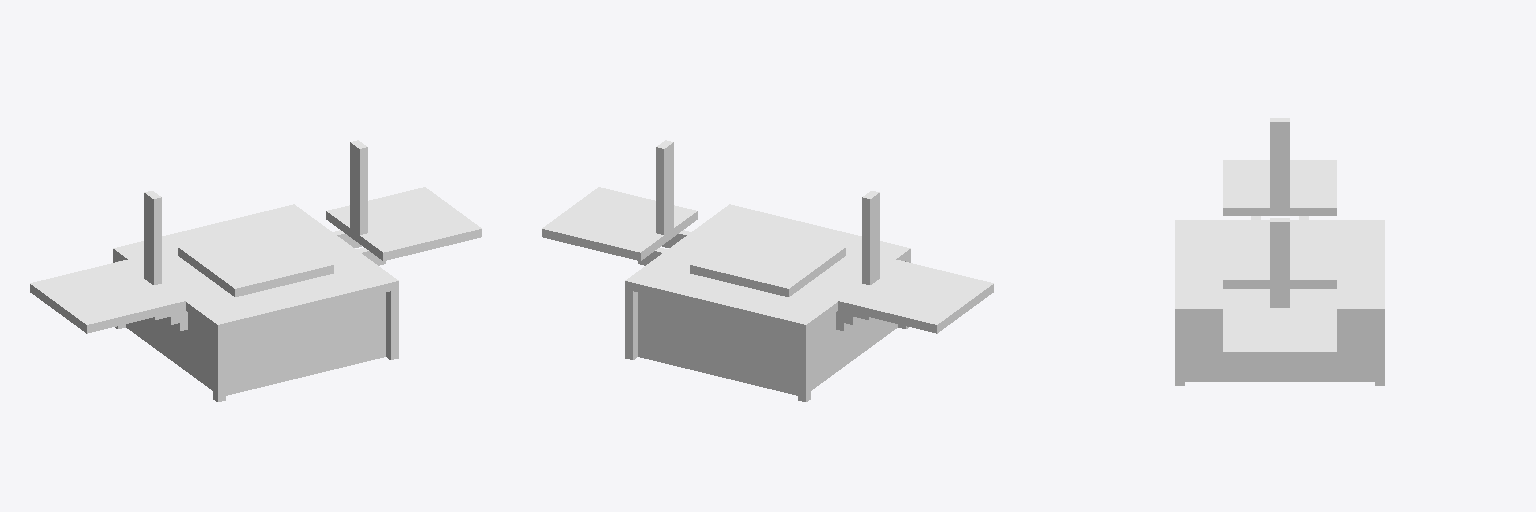
The model's file is Combiner-4-base.obj.
3 views of the same model, side by side, from view 1: azimuth 30°, elevation 25°; view 2: azimuth 150°, elevation 25°; view 3: azimuth 270°, elevation 25° (orthographic).
Visible parts, largest first — view 1: base; view 2: base; view 3: base.
Boxes of the visible parts, x1=… form: base: x1=30, y1=140, x2=481, y2=401; base: x1=542, y1=140, x2=993, y2=401; base: x1=1175, y1=118, x2=1384, y2=385.
Bounding box in the file's own units: 4.8 × 2 × 2.2.